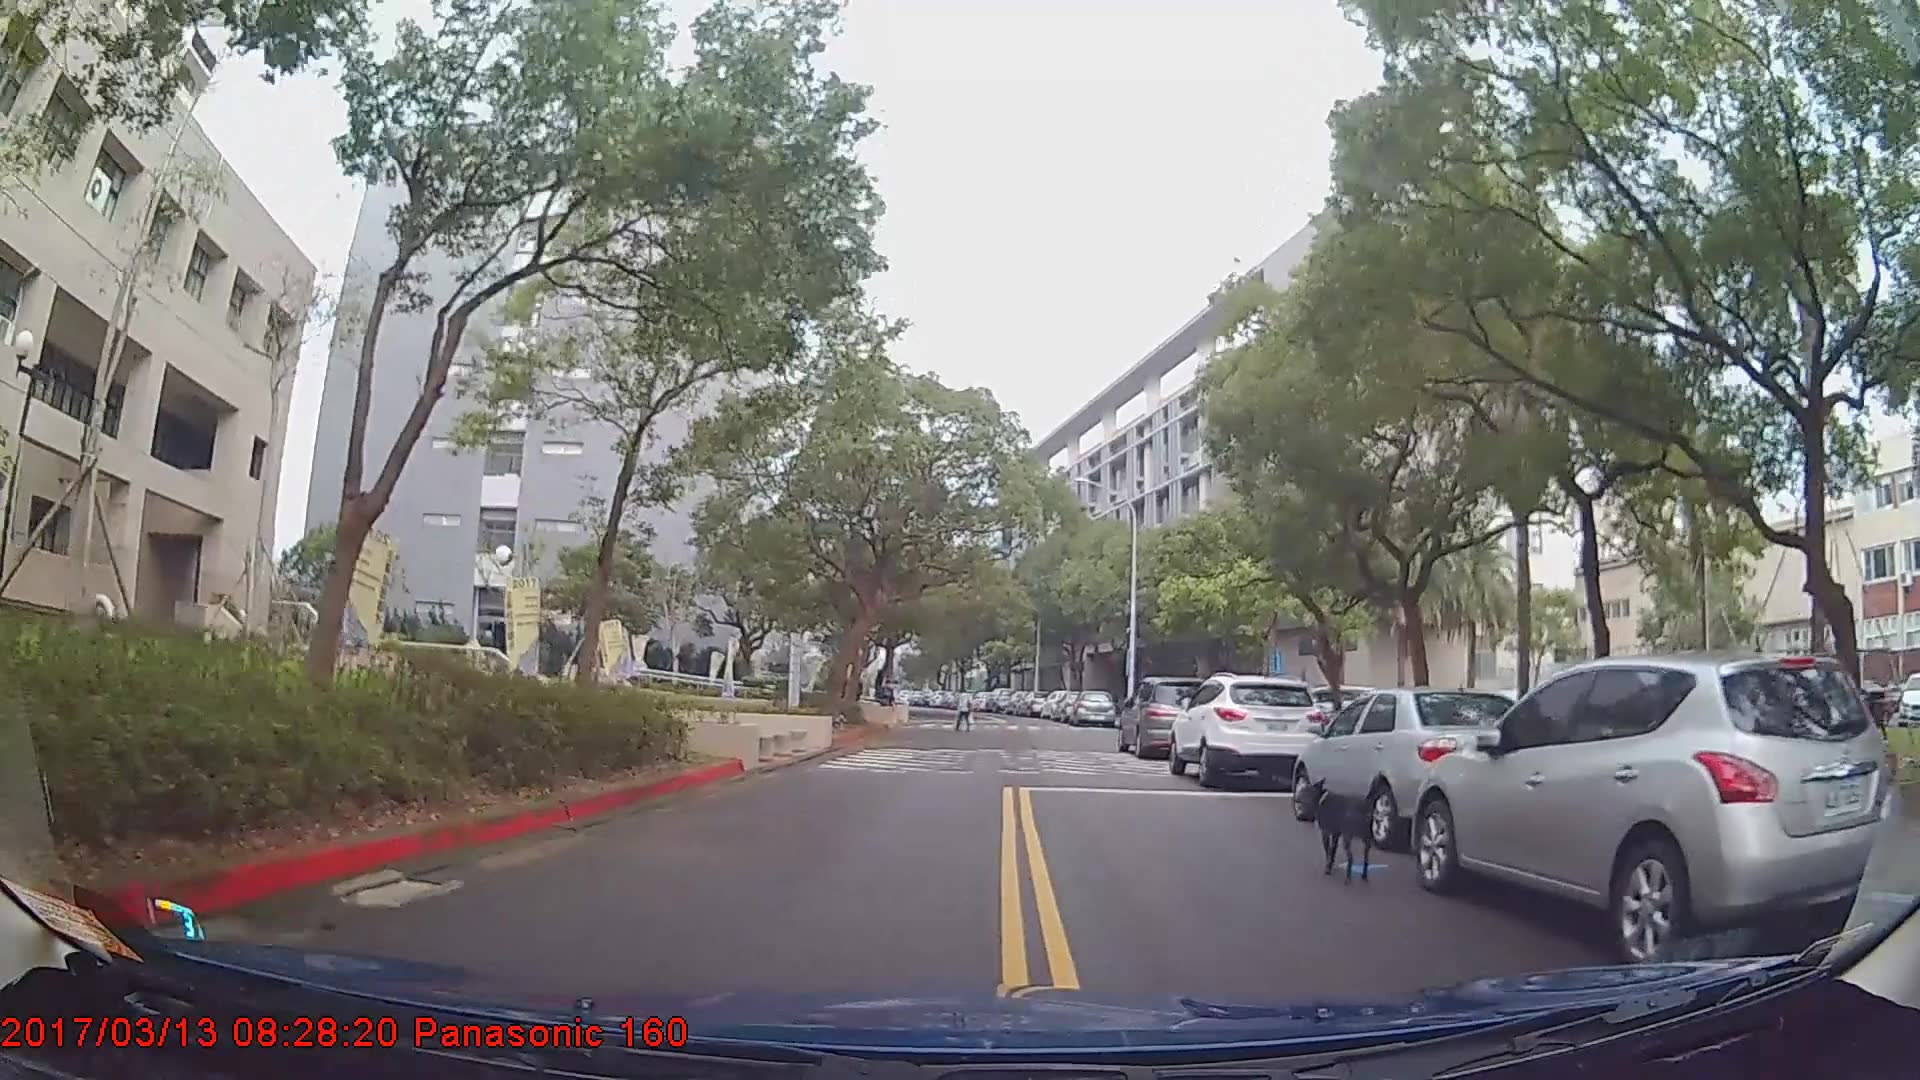pedestrian: (954, 688, 976, 734)
vehicle: (1408, 648, 1901, 958), (1294, 687, 1545, 849), (1168, 670, 1327, 786), (1115, 673, 1227, 754), (1070, 687, 1118, 728), (984, 687, 1014, 714)
